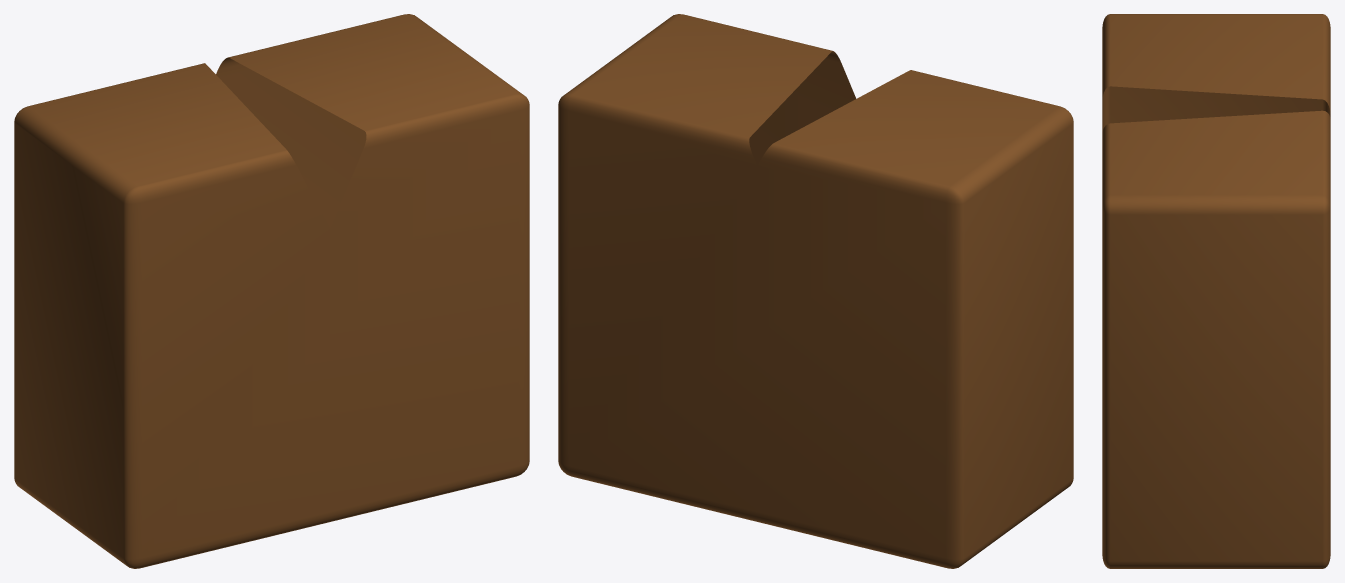
File: shirt.fbx
3 renders of one model, left to right at view 1: azimuth 30°, elevation 25°; view 2: azimuth 150°, elevation 25°; view 3: azimuth 270°, elevation 25°, orthographic. The views are drawn at different scales.
Visible parts, largest first — view 1: Shirt; view 2: Shirt; view 3: Shirt.
Boxes of the visible parts, bbox=[...] form: Shirt: bbox=[14, 14, 529, 568]; Shirt: bbox=[558, 14, 1073, 568]; Shirt: bbox=[1102, 14, 1330, 568].
Size of the model in its own units: 202 by 182 by 101.
